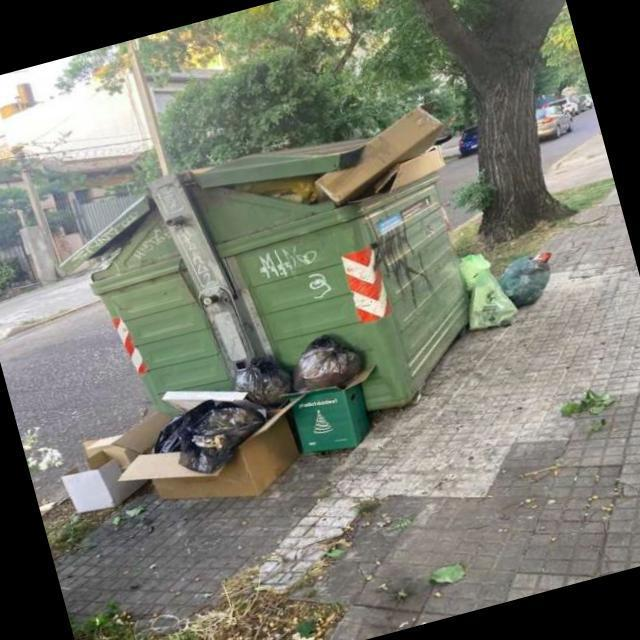garbage: (14, 302, 462, 554), (212, 92, 486, 255), (419, 210, 571, 358)
